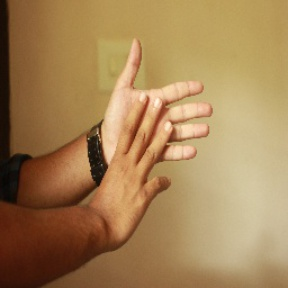M: (88, 38, 215, 207)
